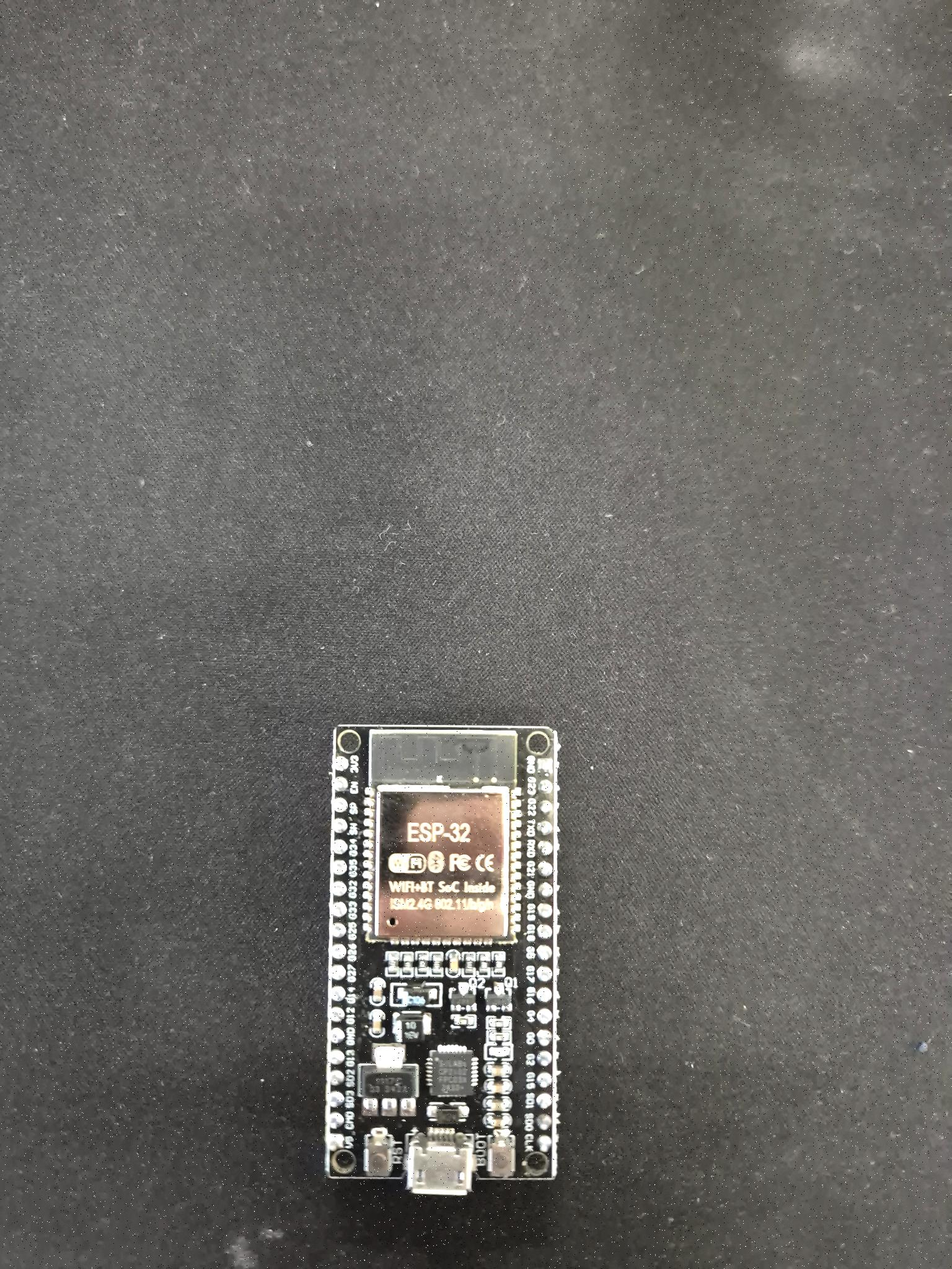esp32-dev: (326, 726, 557, 1194)
